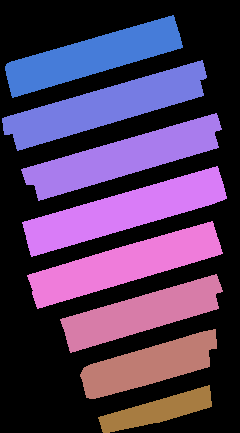parkingspot: (2, 60, 206, 134), (26, 181, 226, 256), (22, 166, 222, 240), (21, 113, 221, 184), (12, 78, 203, 150), (32, 237, 222, 308), (27, 221, 217, 291), (34, 130, 218, 200), (8, 31, 182, 97), (5, 15, 178, 81), (60, 274, 222, 336), (65, 292, 218, 352), (80, 329, 216, 385), (83, 348, 209, 398), (98, 385, 211, 433)
